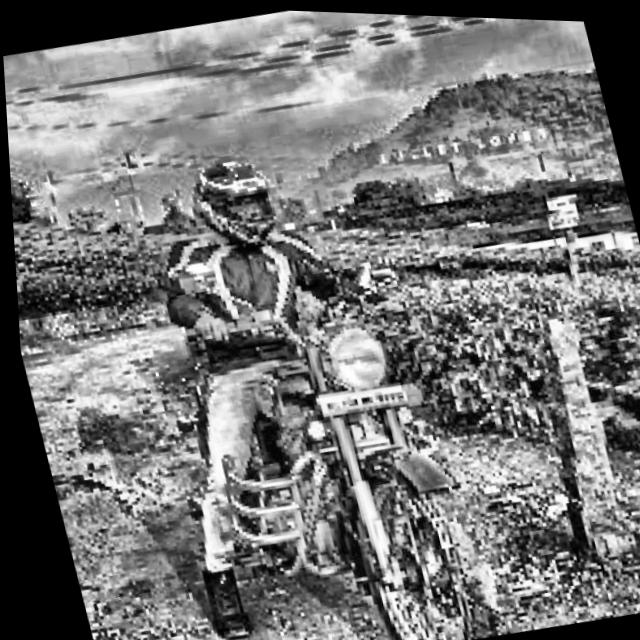motorcycle: (110, 207, 524, 640)
